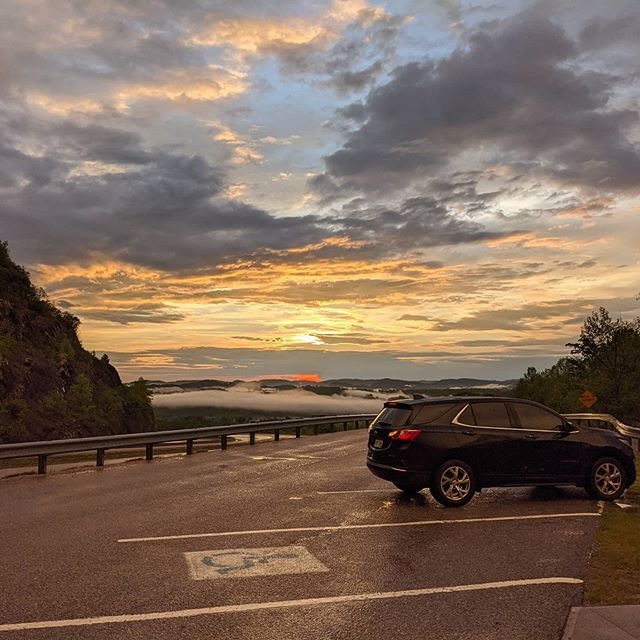car: (352, 386, 634, 508)
sky: (28, 3, 637, 352)
street: (1, 447, 629, 640)
